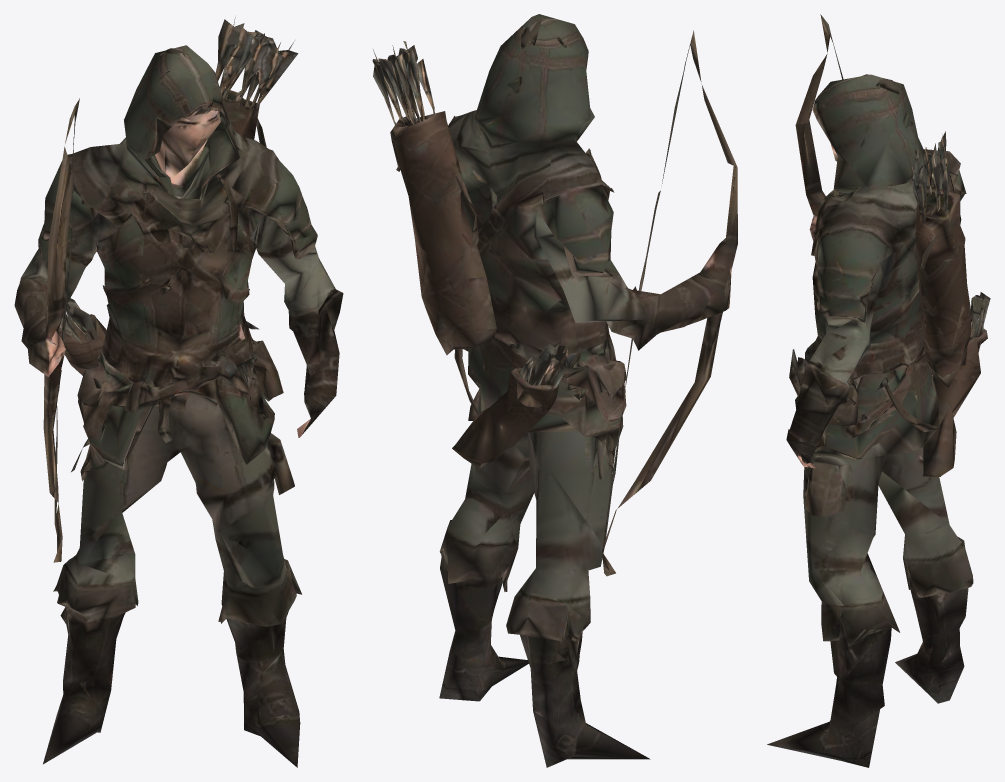
File: arquero.glb
3 views of the same model, side by side, from view 1: azimuth 30°, elevation 25°; view 2: azimuth 150°, elevation 25°; view 3: azimuth 270°, elevation 25° (orthographic). The views are drawn at different scales.
Size of the model in its own units: 0.8469 by 1.83 by 0.5711.
Materials: 1 (1 with a texture image).
